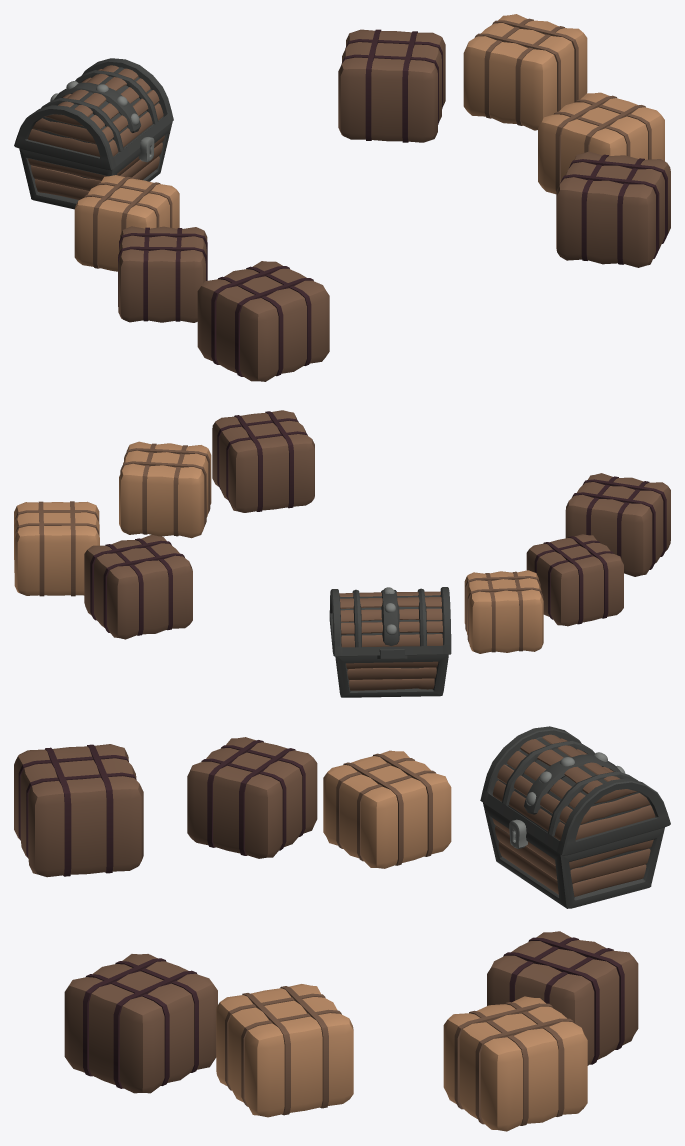
Rendered from sea_island-PACKAGE.fbx.
The picture shows the model from 3 angles, top to bottom: view 1: azimuth 30°, elevation 25°; view 2: azimuth 150°, elevation 25°; view 3: azimuth 270°, elevation 25°; orthographic projection. The views are drawn at different scales.
Parts seen in each view (by area): view 1: Package_2.005, Package_2.004, Package_2.001, Package_2.002, Chest_Top.003, Package_2.025, Package_2.003, Package_2.022, Chest_Bottom.003; view 2: Package_2.002, Package_2.004, Package_2.003, Chest_Top.003, Package_2.005, Package_2.001, Package_2.025, Package_2.022, Chest_Bottom.003; view 3: Package_2.004, Package_2.001, Package_2.005, Package_2.003, Chest_Top.003, Package_2.025, Package_2.022, Package_2.002, Chest_Bottom.003.
Boxes of the visible parts, box(x1,y1,x2,y2) form: Package_2.005: box(197, 261, 329, 381); Package_2.004: box(556, 151, 670, 267); Package_2.001: box(463, 14, 587, 130); Package_2.002: box(338, 29, 445, 142); Chest_Top.003: box(14, 58, 173, 170); Package_2.025: box(118, 226, 207, 322); Package_2.003: box(538, 92, 664, 194); Package_2.022: box(74, 175, 179, 271); Chest_Bottom.003: box(19, 121, 172, 209); Package_2.002: box(84, 534, 192, 639); Package_2.004: box(212, 410, 314, 512); Package_2.003: box(119, 441, 211, 538); Chest_Top.003: box(329, 587, 451, 659); Package_2.005: box(565, 473, 670, 576); Package_2.001: box(14, 501, 99, 596); Package_2.025: box(526, 534, 623, 626); Package_2.022: box(464, 570, 543, 653); Chest_Bottom.003: box(335, 654, 448, 697); Package_2.004: box(64, 954, 217, 1093); Package_2.001: box(443, 996, 587, 1131); Package_2.005: box(14, 744, 143, 877); Package_2.003: box(216, 984, 353, 1117); Chest_Top.003: box(480, 726, 670, 855); Package_2.025: box(187, 737, 317, 858); Package_2.022: box(323, 750, 451, 868); Package_2.002: box(487, 931, 638, 1065); Chest_Bottom.003: box(483, 803, 664, 908).
Size of what is drawn, in the model's own units: 454 by 80.98 by 386.
